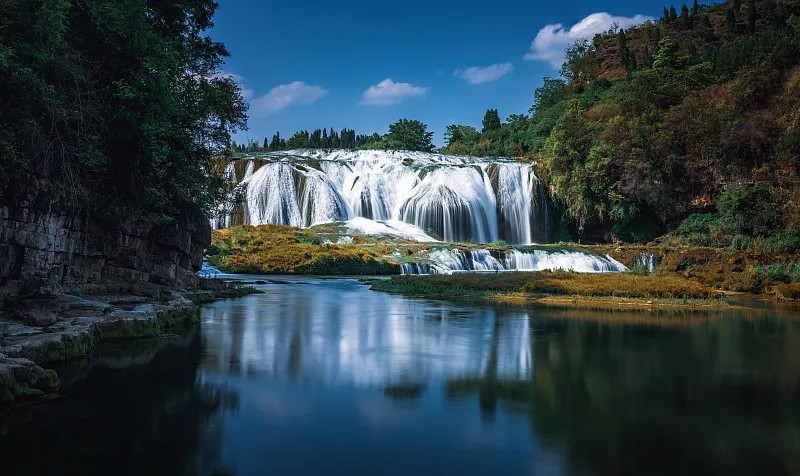Huangguoshu: (229, 149, 539, 246)
